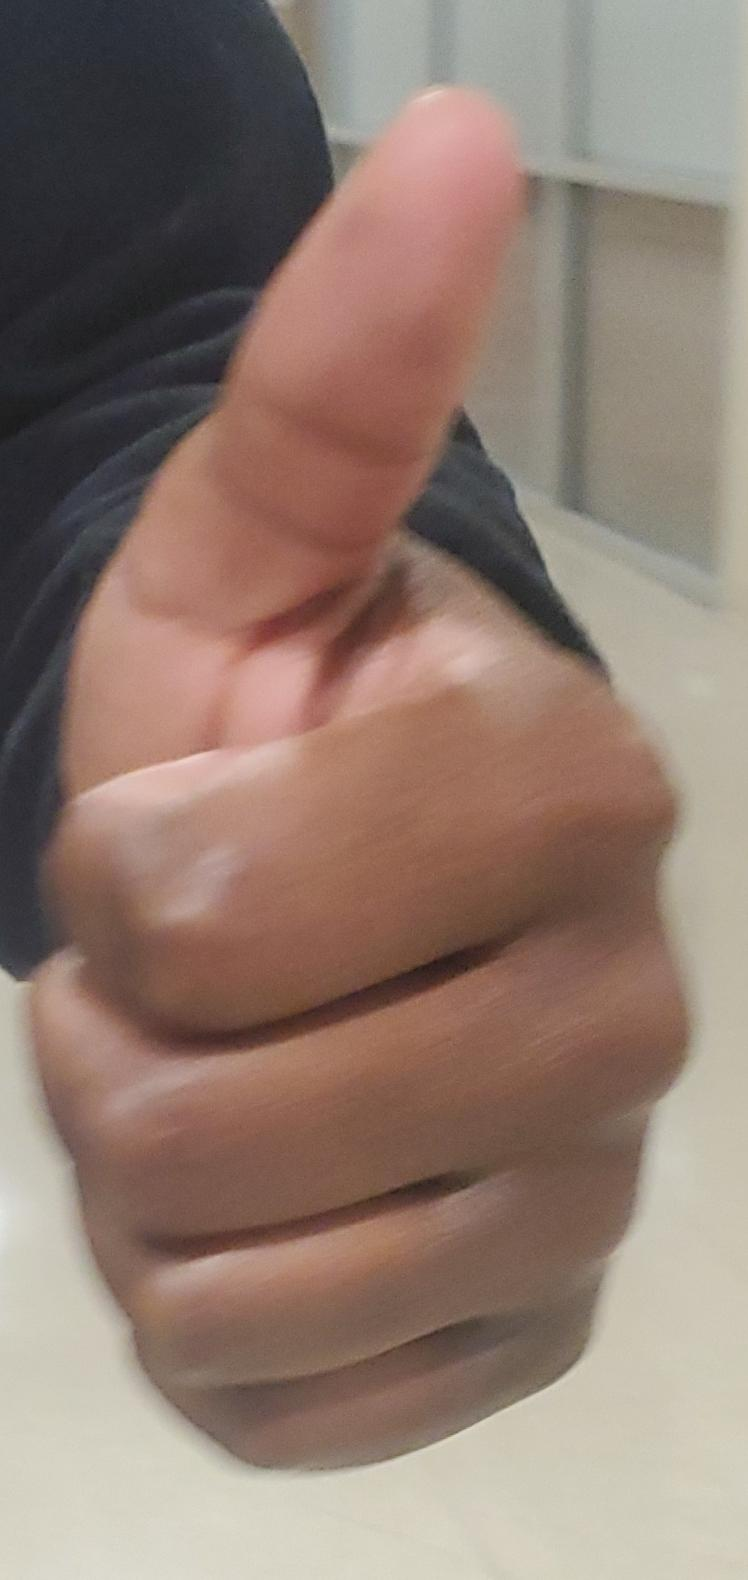up: (0, 1, 748, 1580)
